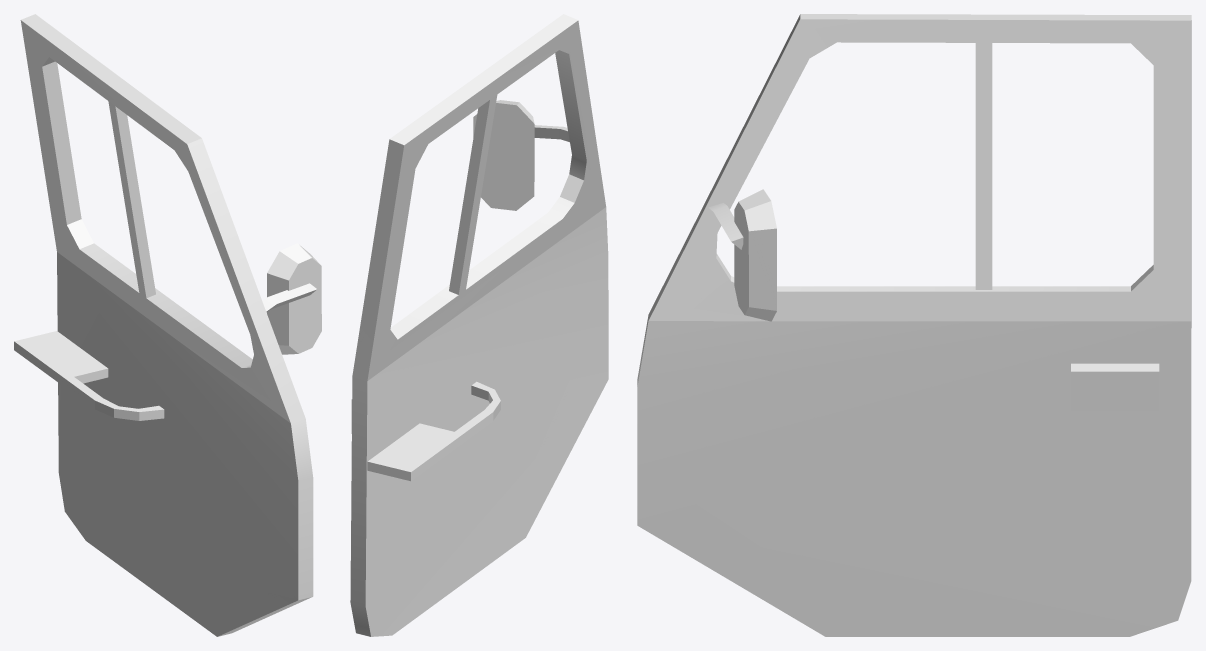
3 views of the same model, side by side, from view 1: azimuth 30°, elevation 25°; view 2: azimuth 150°, elevation 25°; view 3: azimuth 270°, elevation 25° (orthographic). The views are drawn at different scales.
Bounding box in the file's own units: 0.2373 × 0.9887 × 0.8354.
Materials: 1 (1 with a texture image).
